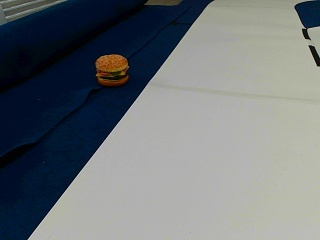burger: (95, 53, 130, 85)
